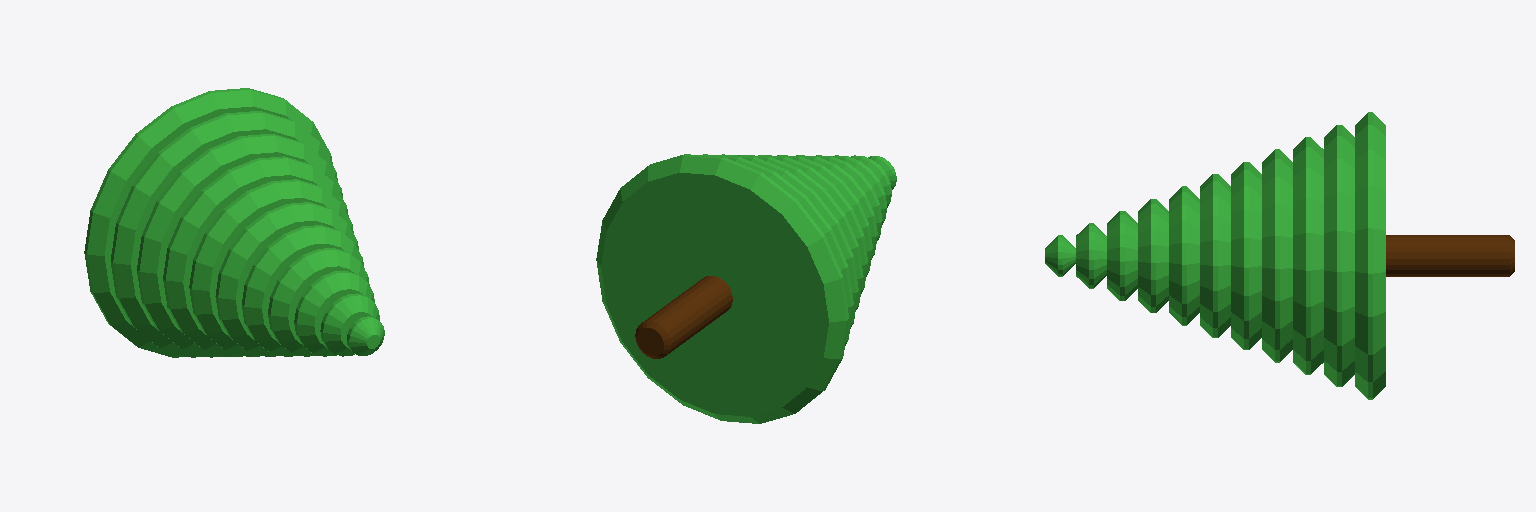
Rendered from tinker.obj.
3 views of the same model, side by side, from view 1: azimuth 30°, elevation 25°; view 2: azimuth 150°, elevation 25°; view 3: azimuth 270°, elevation 25° (orthographic).
Visible parts, largest first — view 1: obj_0; view 2: obj_0; view 3: obj_0.
Part boxes in pixels (x1,y1,x2,y2): obj_0: (84,88,384,357); obj_0: (596,154,896,423); obj_0: (1045,112,1514,399).
Bounding box in the file's own units: 28 × 28 × 45.5.